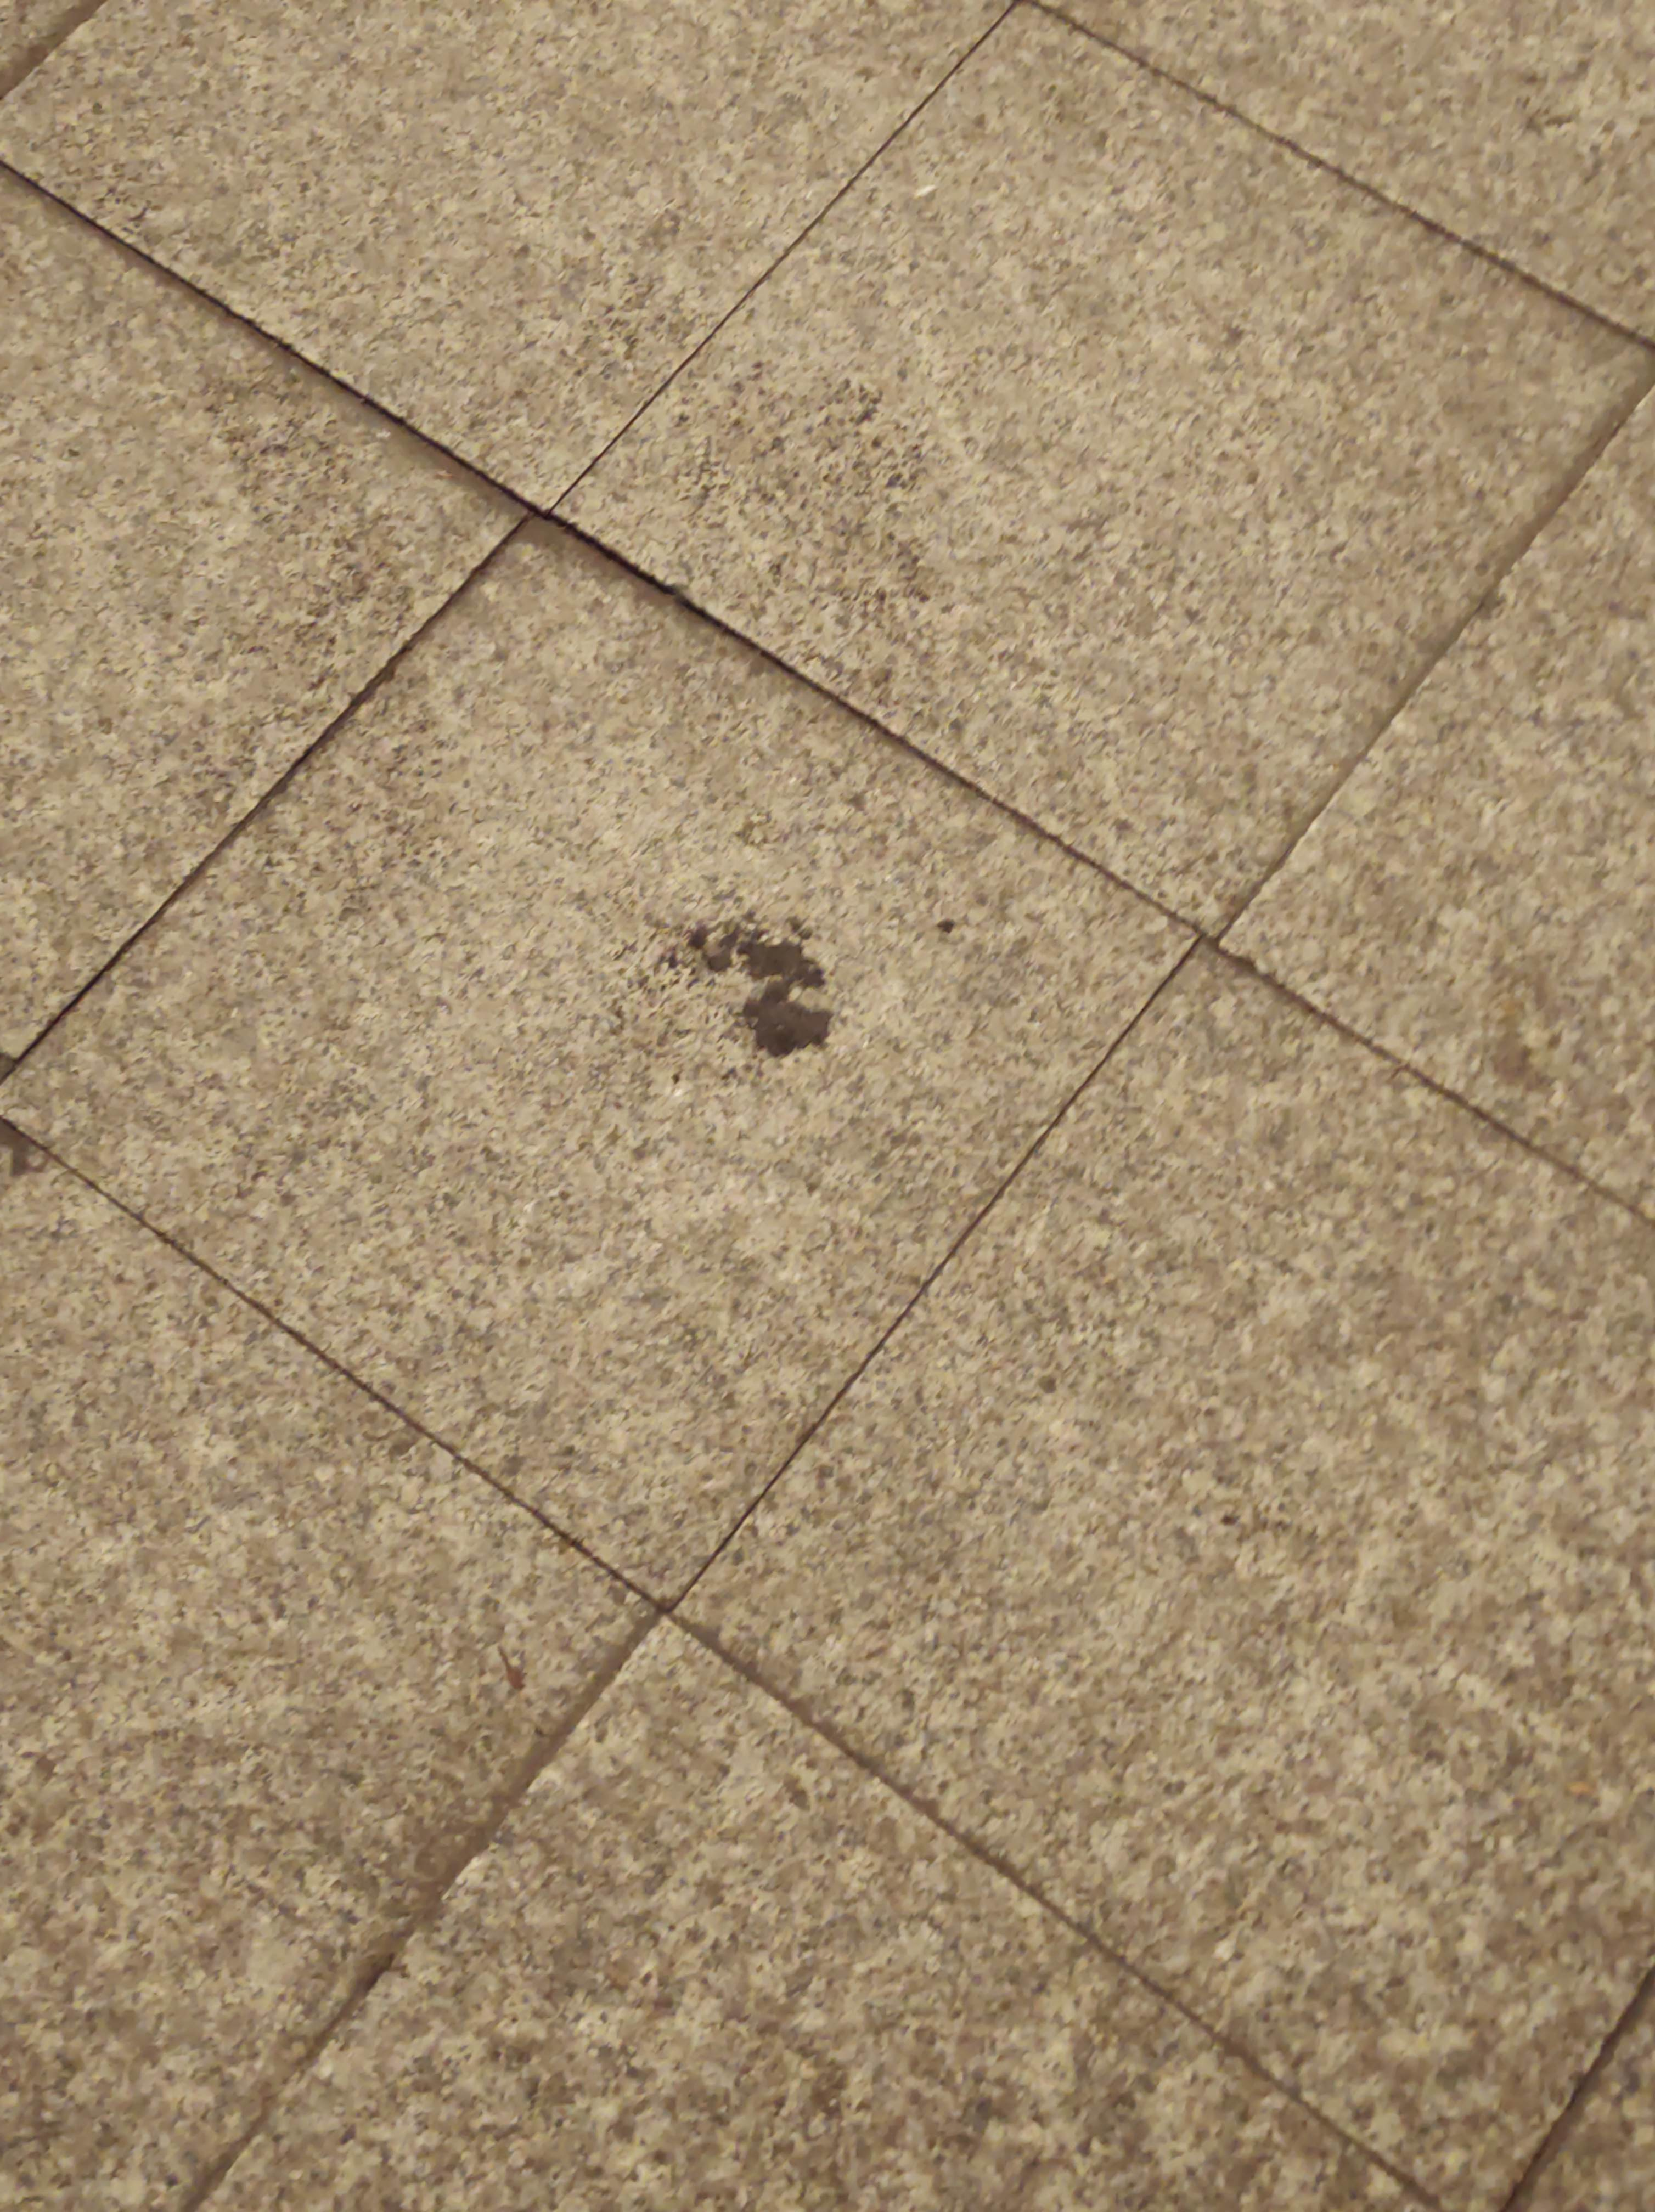grey spot: (697, 926, 833, 1058)
